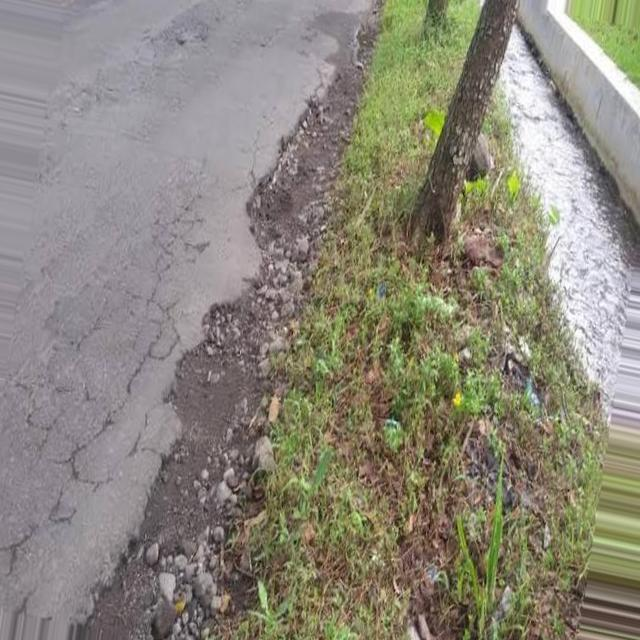Pinggir: (61, 55, 386, 640)
